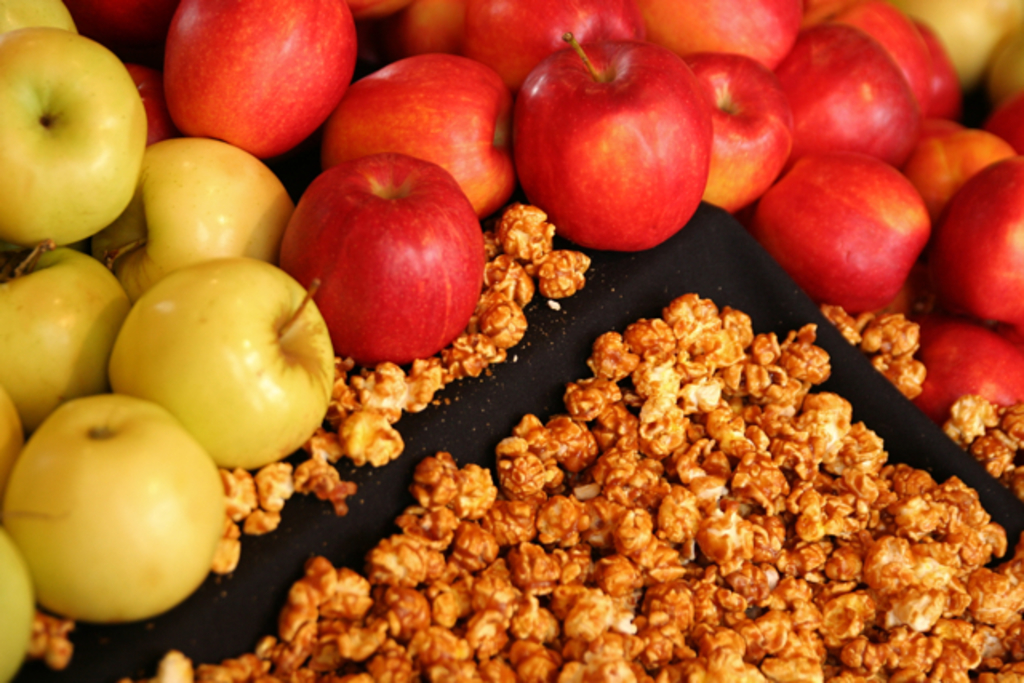Apple: (0, 0, 1022, 679), (283, 147, 486, 366)
